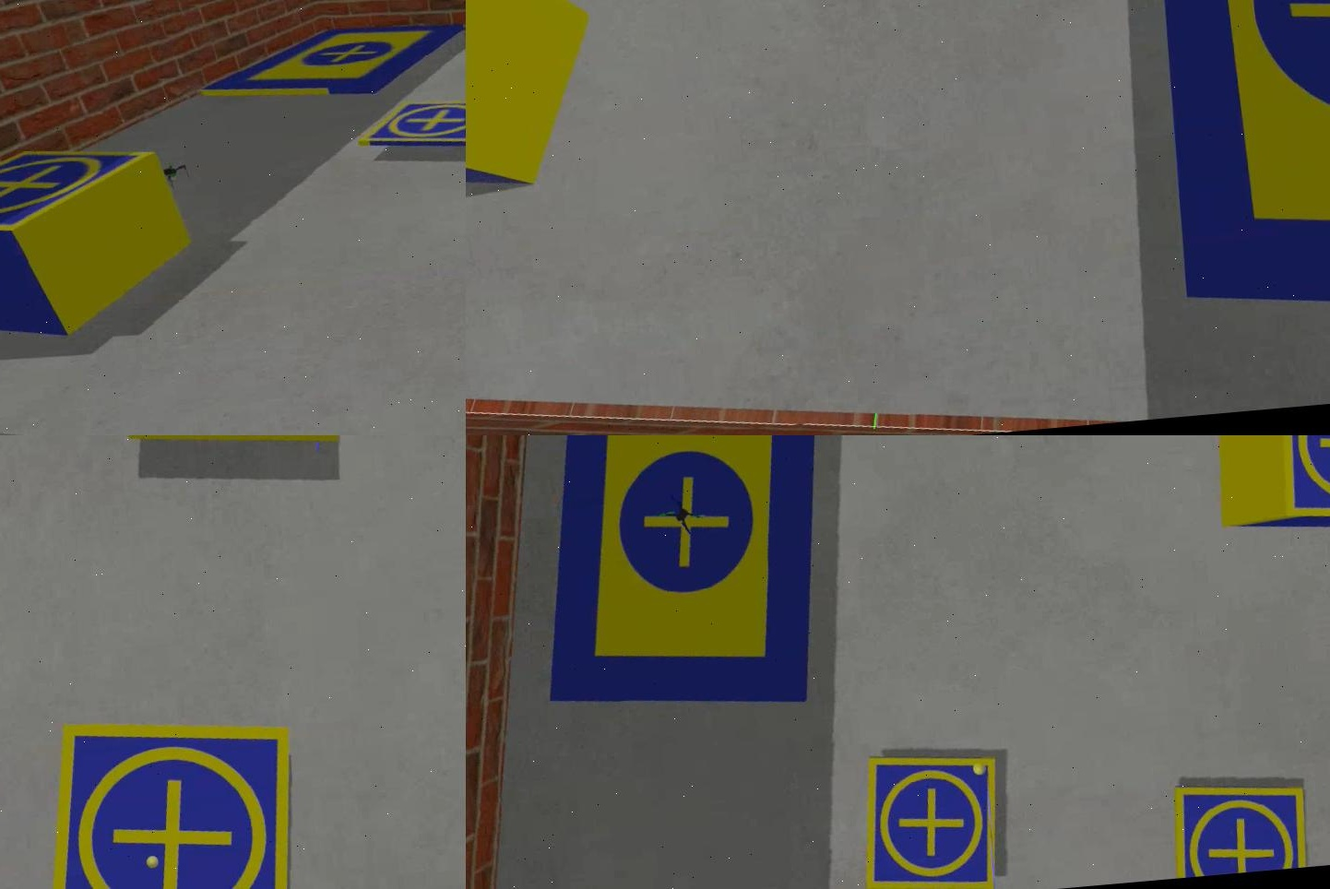large_base: (520, 435, 850, 724), (1140, 1, 1328, 350), (192, 14, 464, 110)
small_base: (24, 705, 309, 889), (856, 746, 1009, 889), (0, 143, 162, 247), (1170, 772, 1310, 880), (356, 96, 464, 160), (122, 435, 341, 460)
